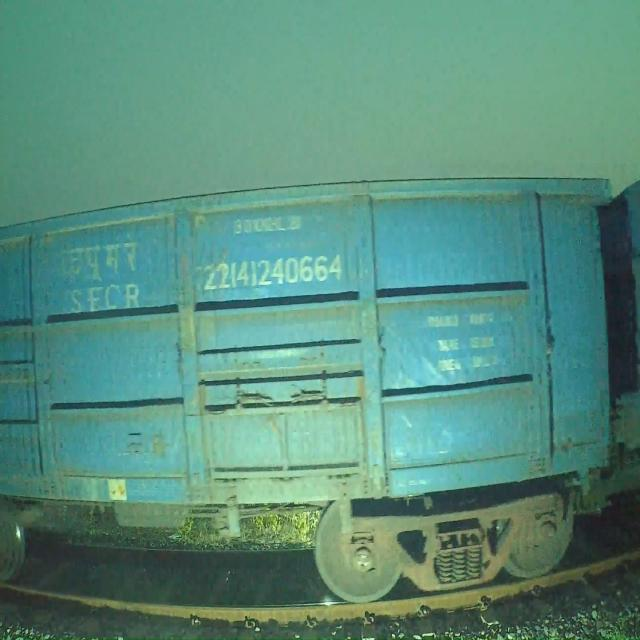WAgon-uic: (0, 175, 614, 603), (582, 179, 640, 516)
uic: (202, 253, 349, 294)
